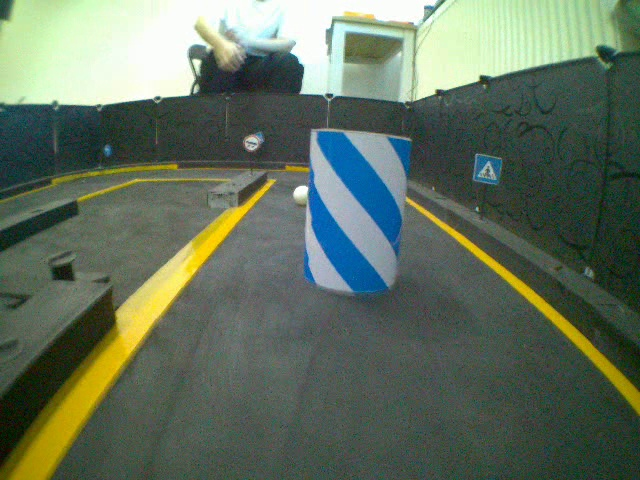ball: (291, 184, 307, 206)
bucket: (303, 127, 415, 294)
